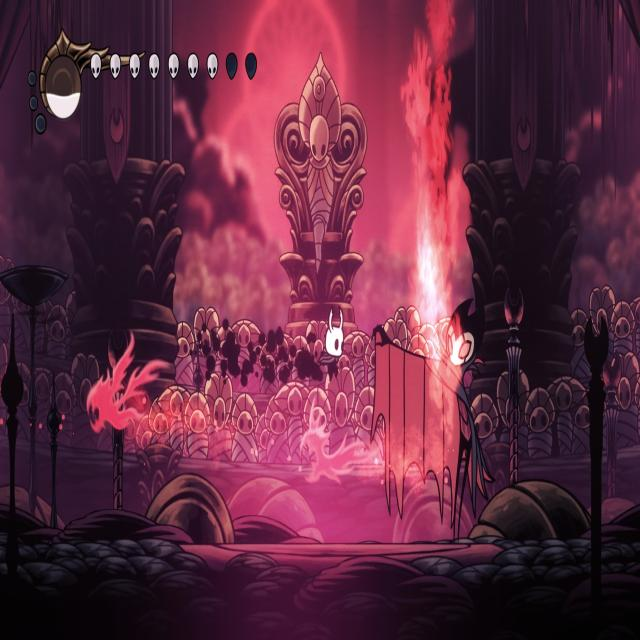Fire Bat: (89, 328, 169, 430), (299, 399, 372, 486)
Open Cloak: (372, 298, 499, 546)
Player: (317, 301, 346, 388)
